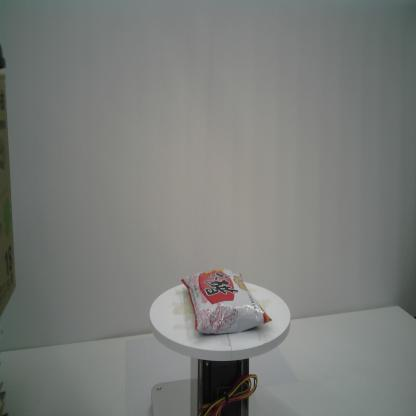Seasoner: (178, 265, 272, 338)
